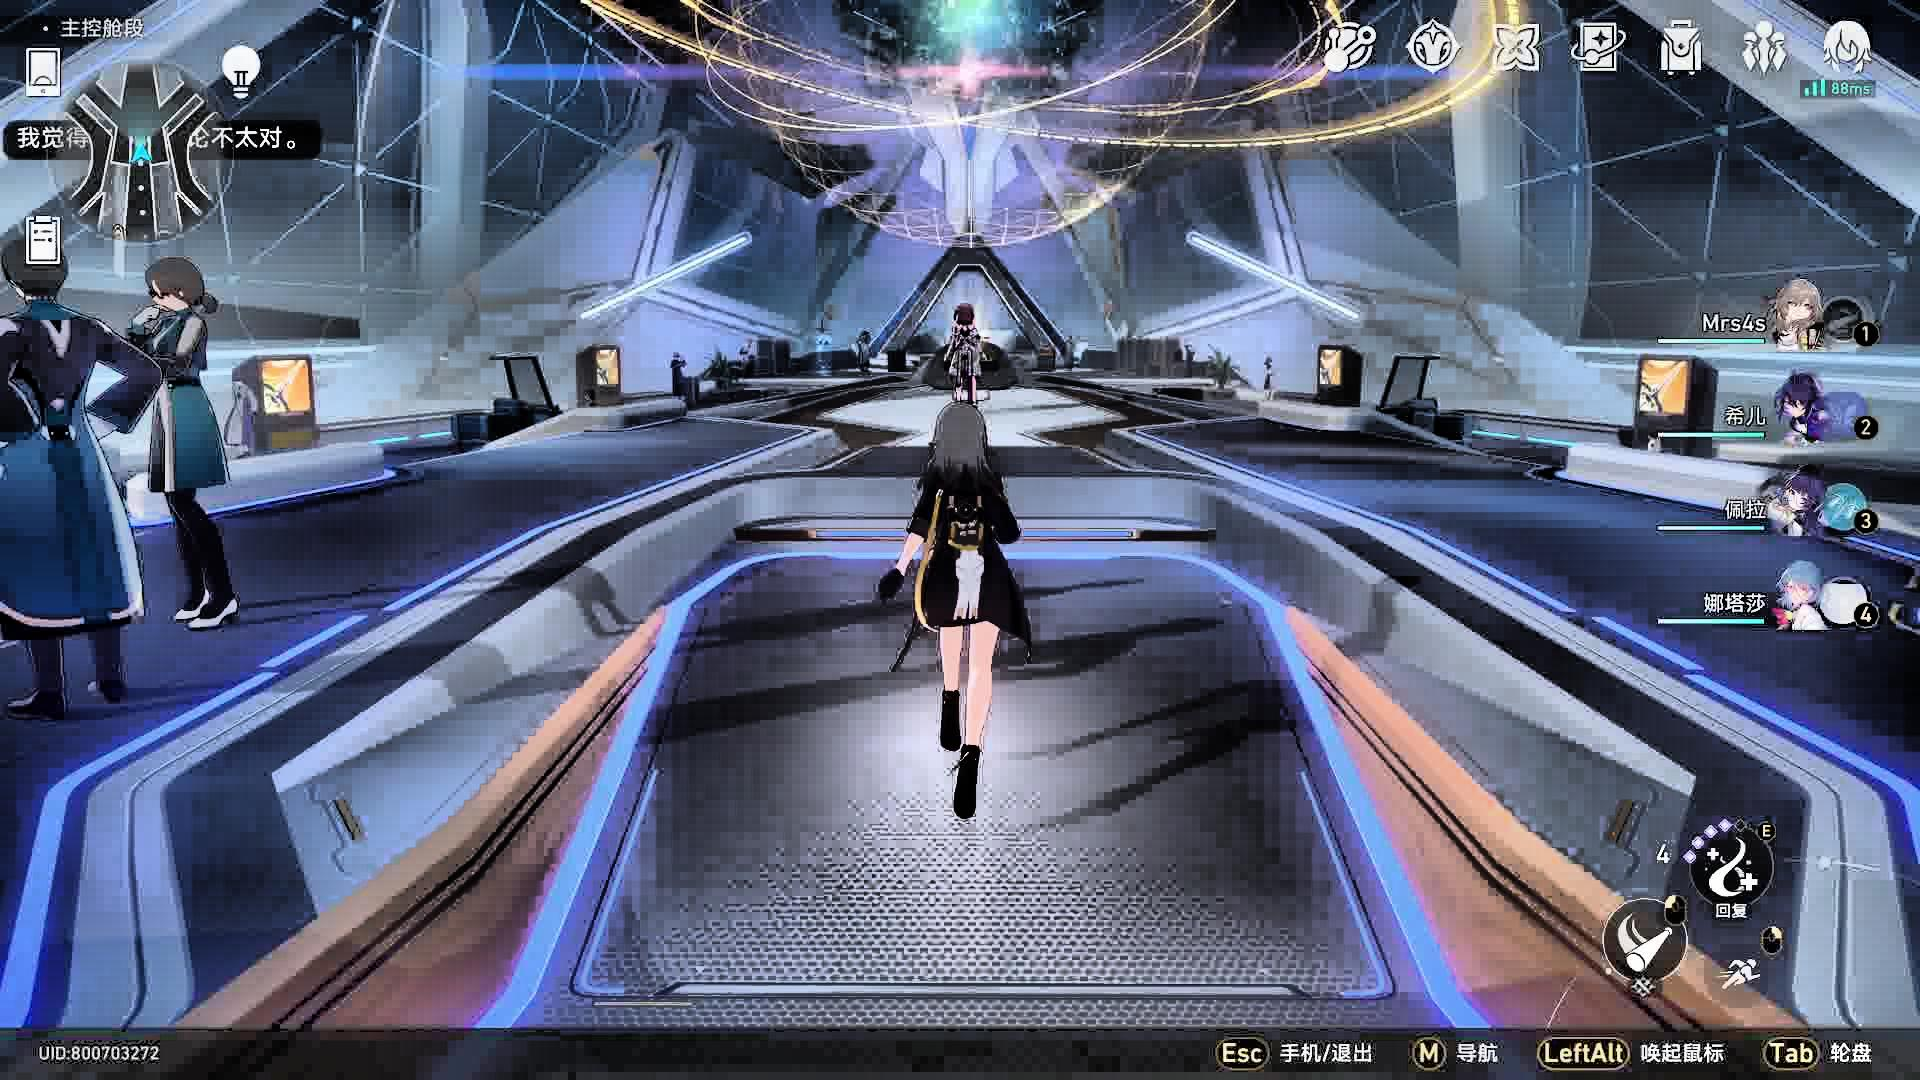Self: (889, 401, 1038, 827)
TeamMate: (7, 224, 146, 737), (112, 251, 248, 638), (938, 297, 985, 409), (1259, 345, 1282, 404), (666, 349, 688, 398)
